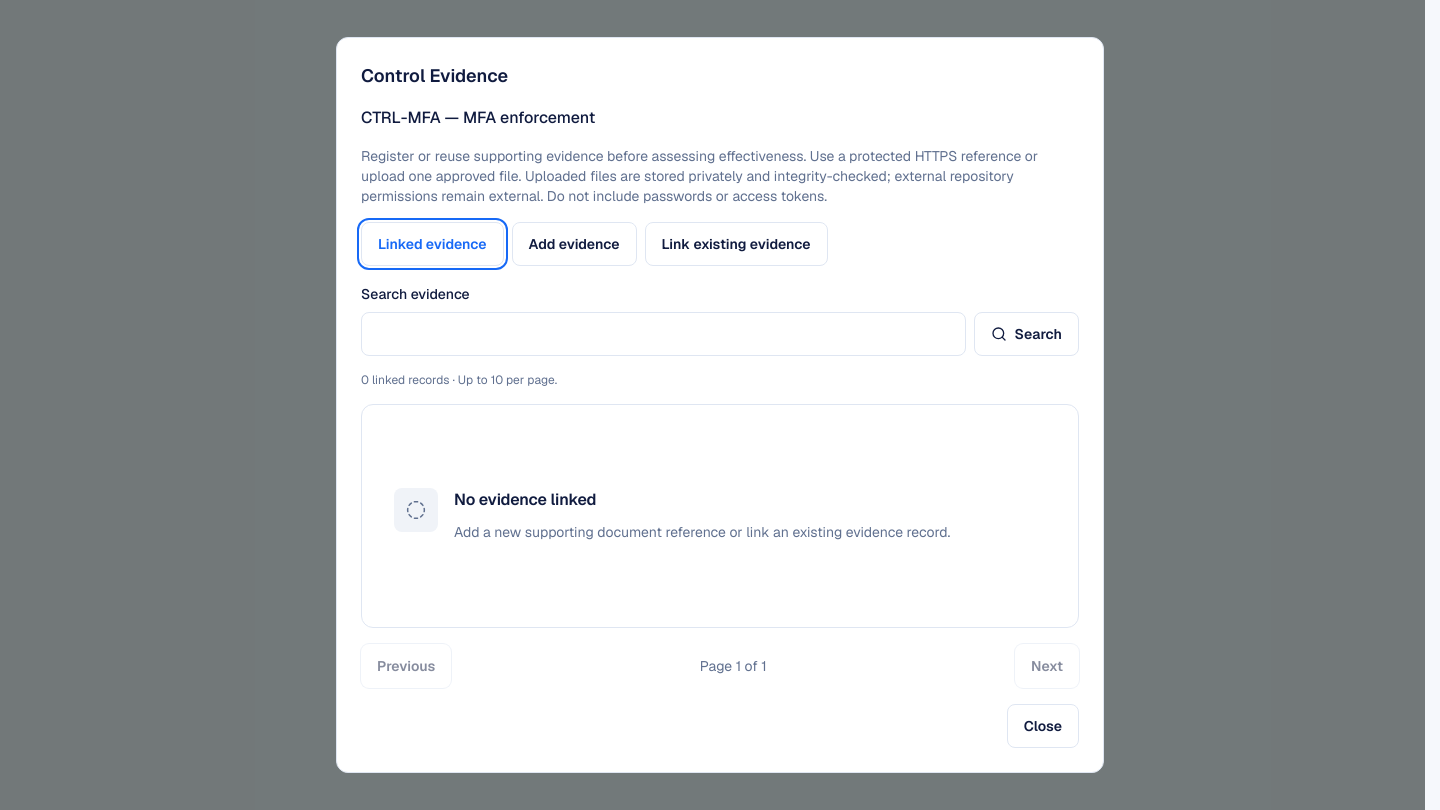
Test: Control Evidence dialog › adds only metadata and a stable requestId with explicit UTC+7 conversion
Click the button "Add evidence": (574, 244) x1=512 y1=222 x2=636 y2=266
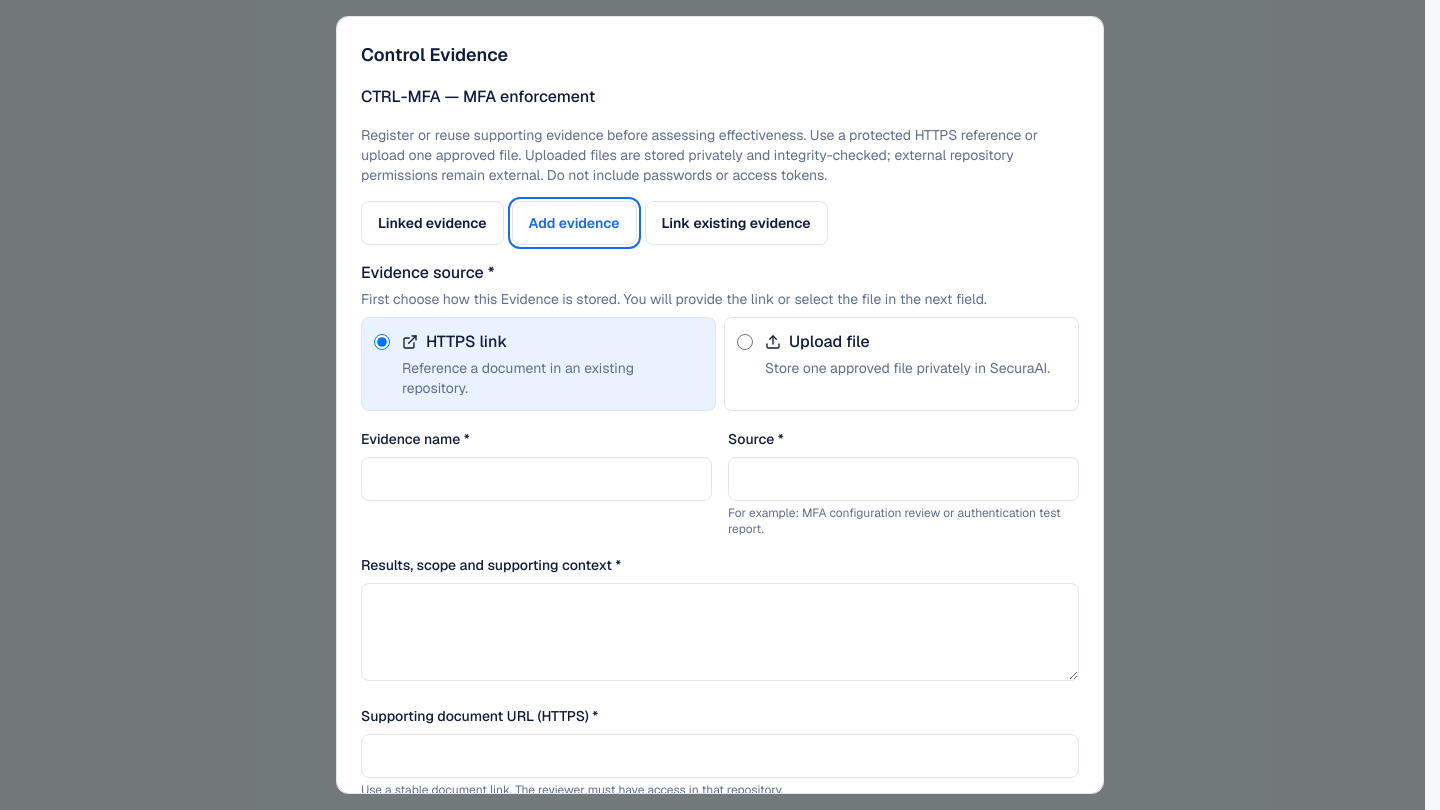
In the field labelled "Evidence name *": (536, 479) x1=361 y1=457 x2=712 y2=501, type "MFA test report"
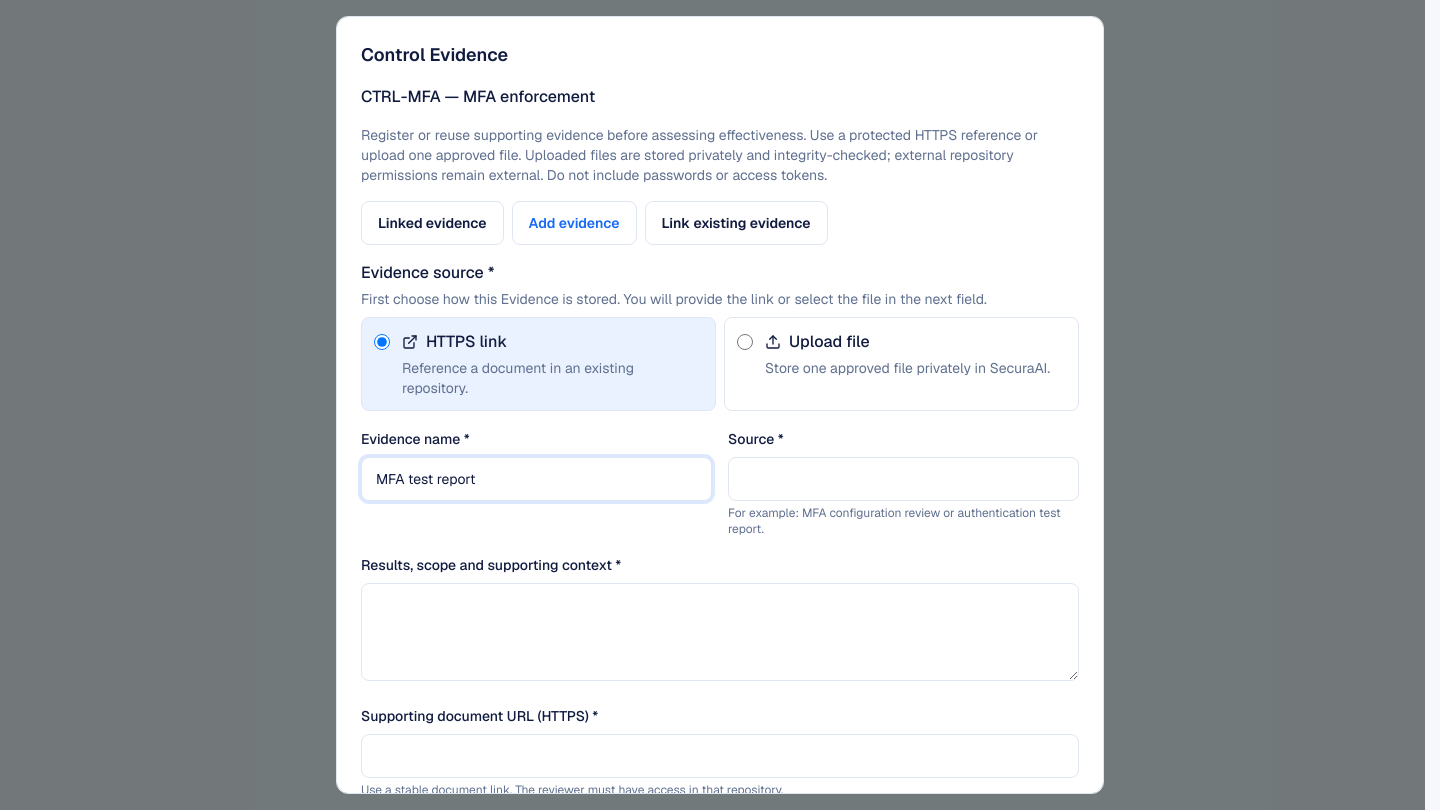
In the field labelled "Source *": (904, 479) x1=728 y1=457 x2=1079 y2=501, type "Authentication test"
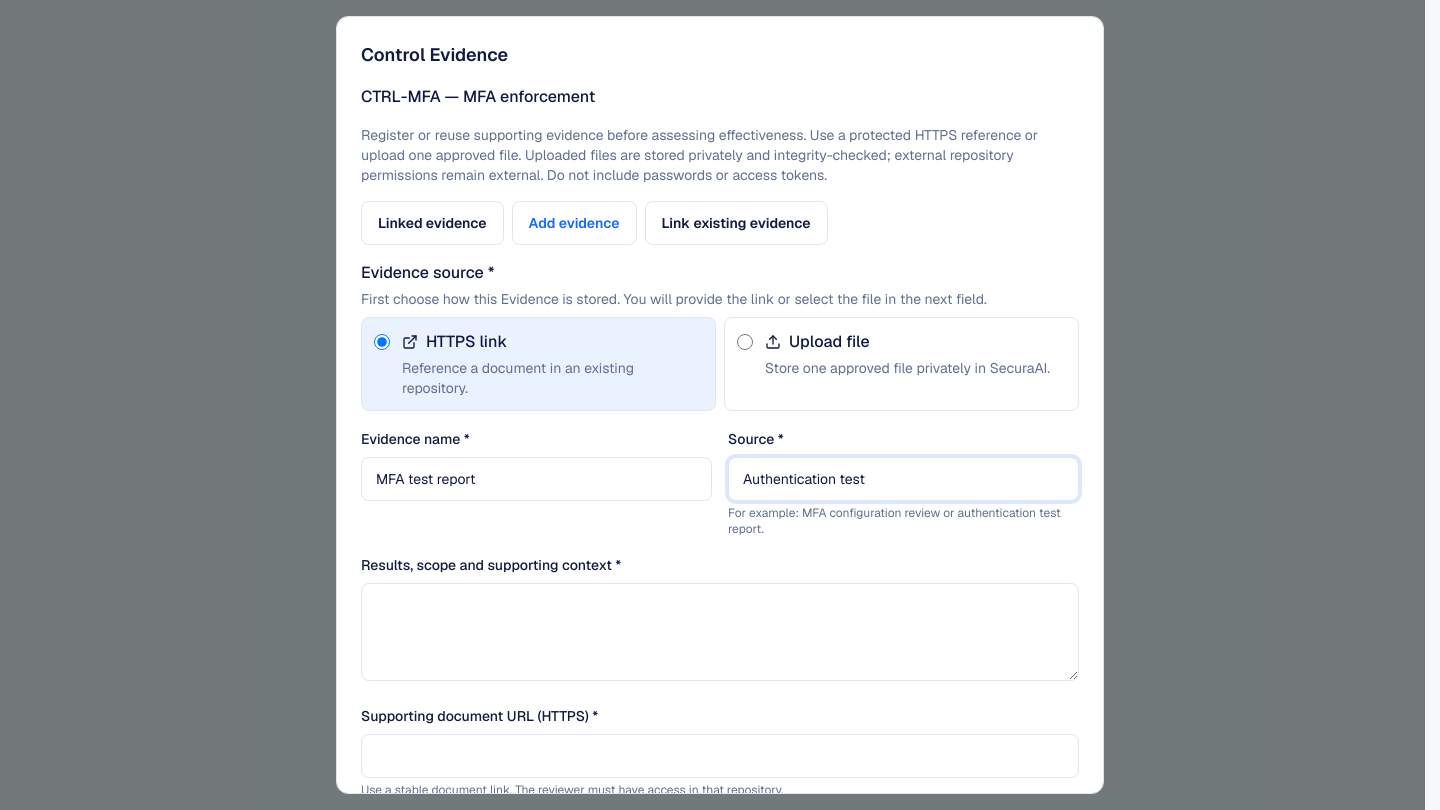
In the text box labelled "Results, scope and supporting context *": (720, 632) x1=361 y1=583 x2=1079 y2=681, type "Ten administrative accounts were tested"
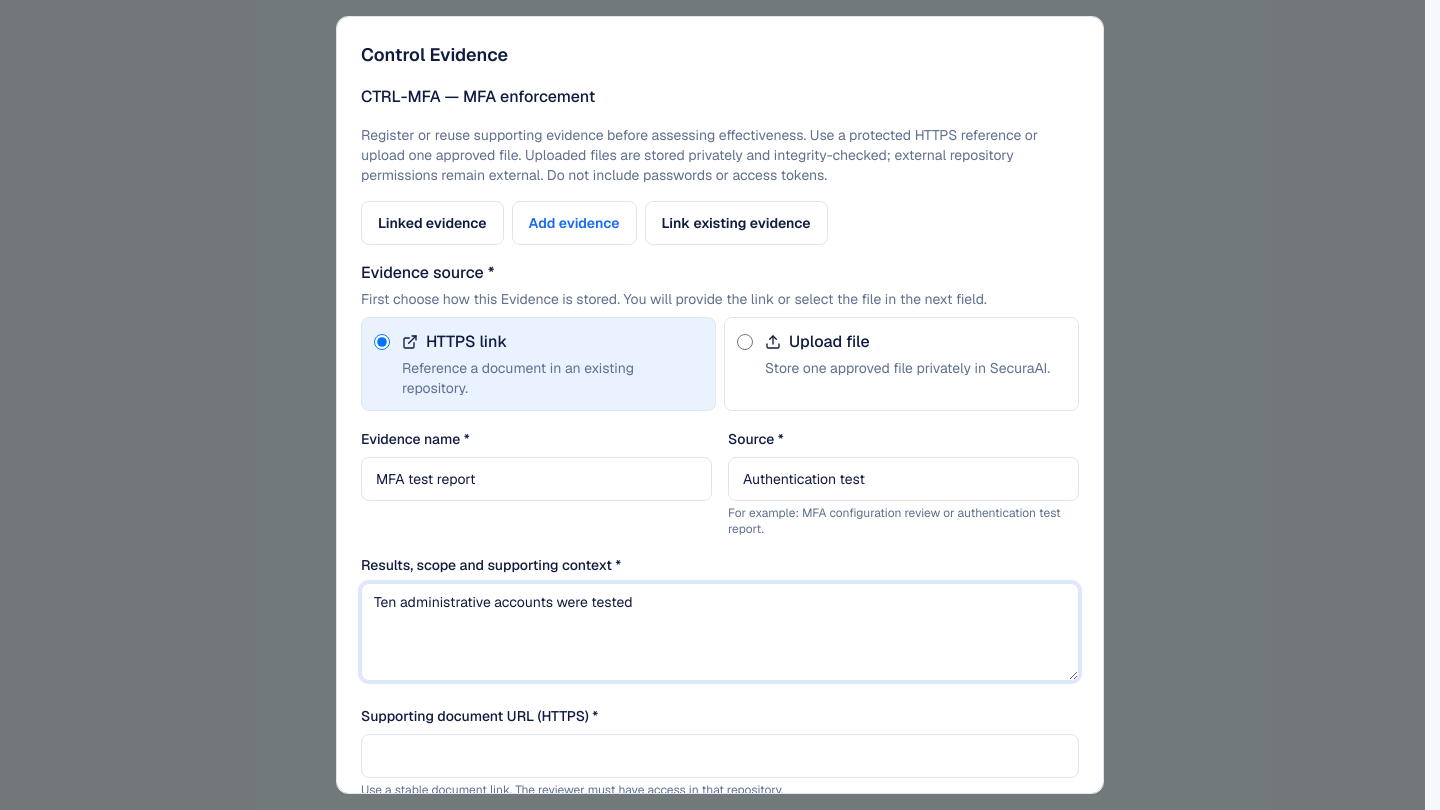
In the field labelled "Supporting document URL (HTTPS) *": (720, 756) x1=361 y1=734 x2=1079 y2=778, type "https://docs.example.test/mfa"
(page scrolled)
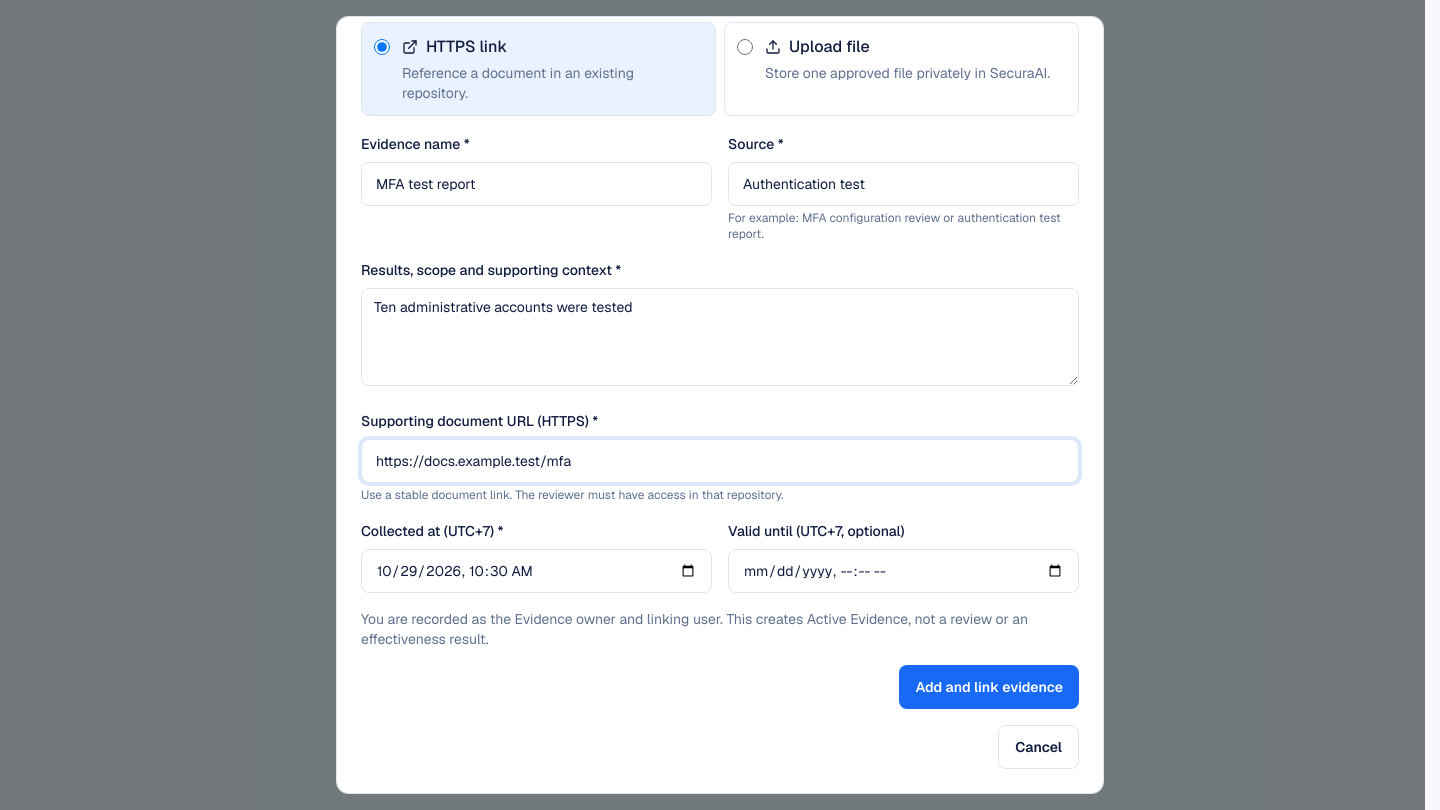
Replace the text in the field labelled "Collected at (UTC+7) *" with "2020-01-01T10:20": (536, 571) x1=361 y1=549 x2=712 y2=593
Click the button "Add and link evidence": (989, 687) x1=900 y1=665 x2=1079 y2=709
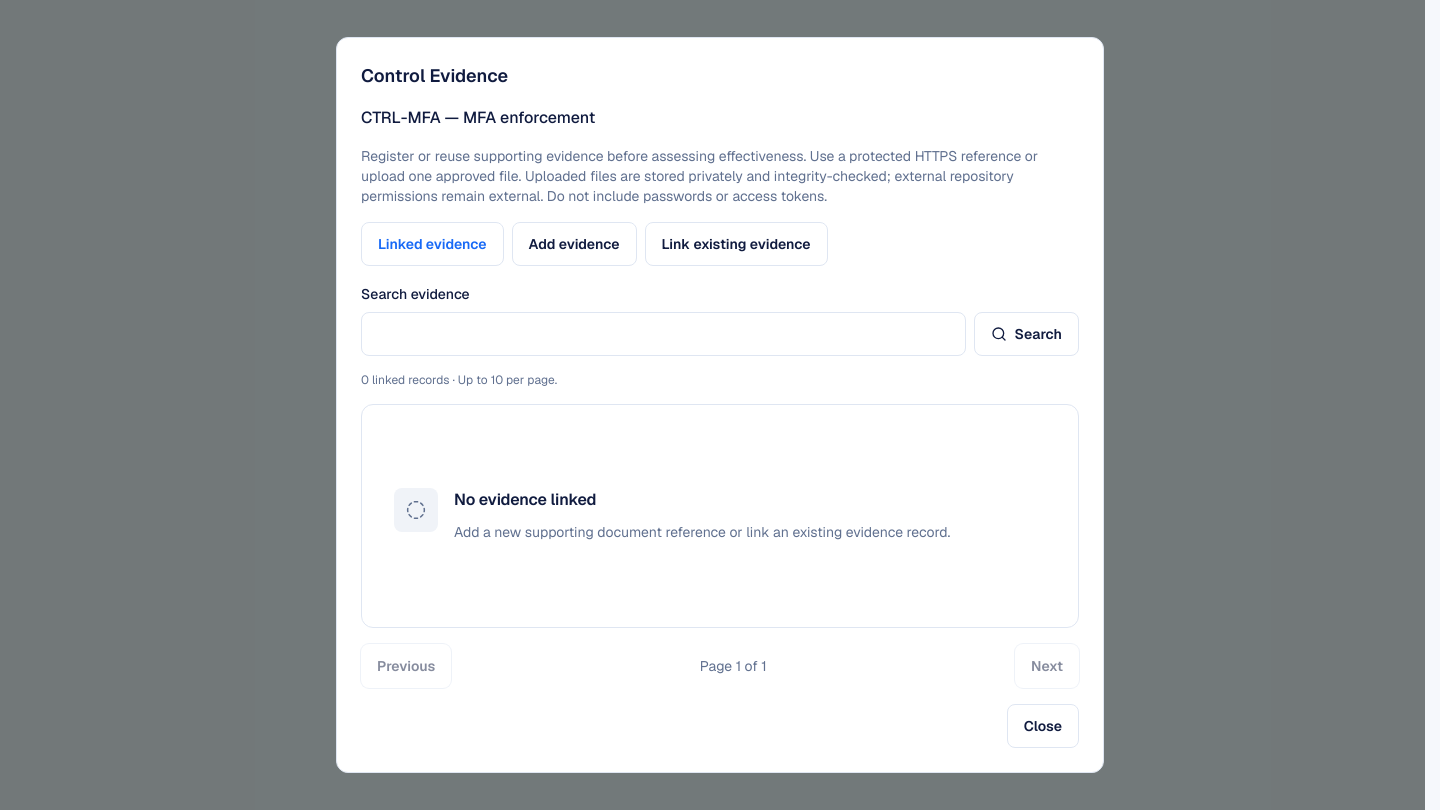
Result: the label labelled "Evidence name *" is gone
